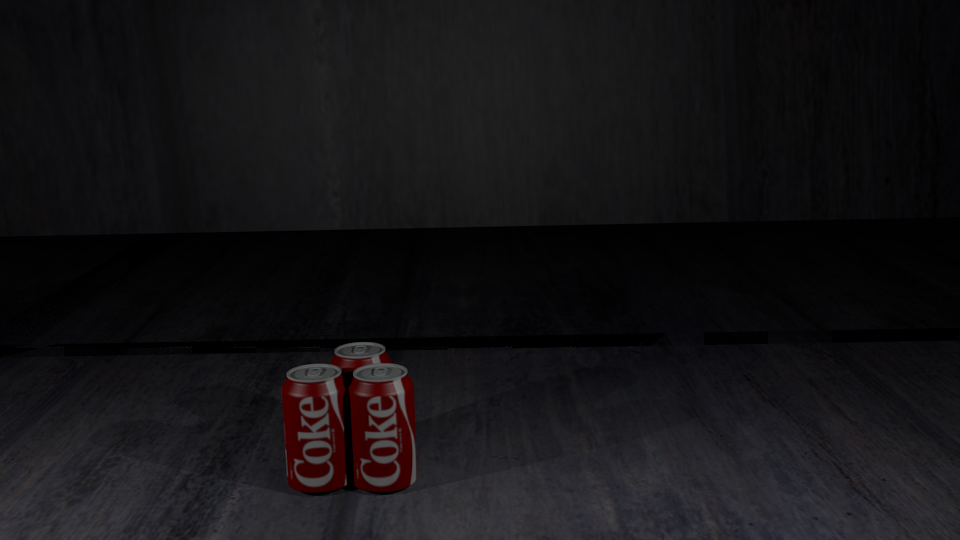cola_can: (282, 364, 349, 489), (348, 364, 415, 487), (330, 342, 390, 460)
